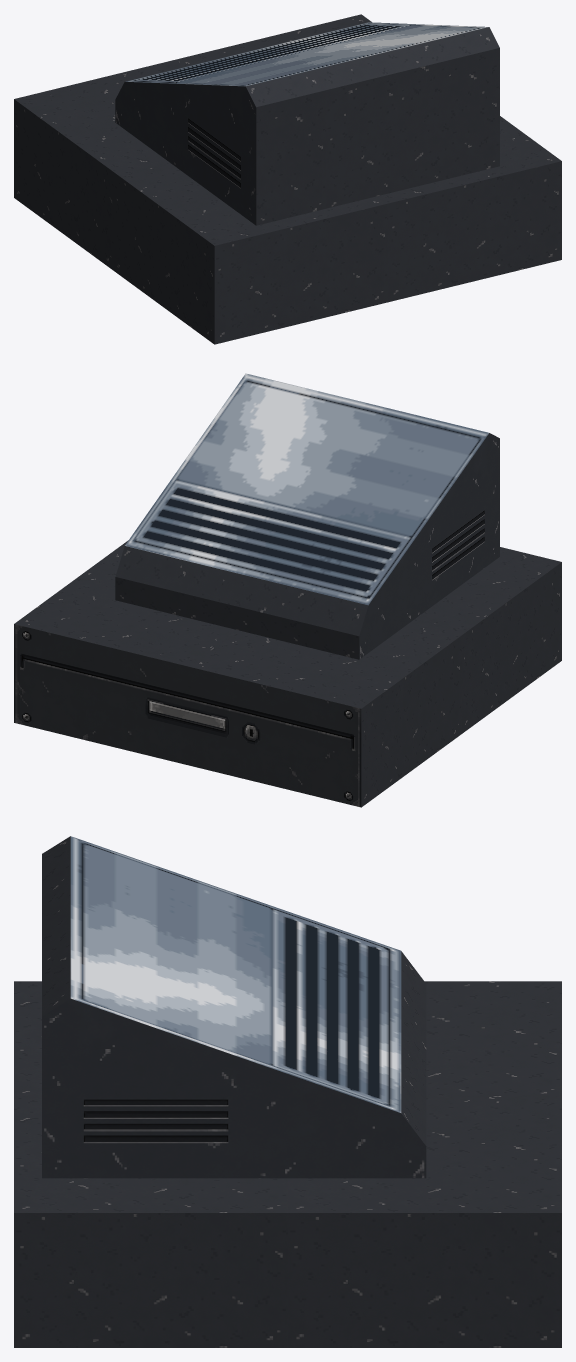
File: register.fbx
The picture shows the model from 3 angles, top to bottom: view 1: azimuth 30°, elevation 25°; view 2: azimuth 150°, elevation 25°; view 3: azimuth 270°, elevation 25°; orthographic projection. The views are drawn at different scales.
Parts seen in each view (by area): view 1: Cube.005, Cube.006; view 2: Cube.005, Cube.006; view 3: Cube.005, Cube.006.
Part boxes in pixels (box(x1,y1,x2,y2)): Cube.005: box(14, 14, 561, 344); Cube.006: box(115, 22, 499, 225); Cube.005: box(14, 540, 561, 807); Cube.006: box(115, 373, 499, 659); Cube.005: box(14, 981, 561, 1347); Cube.006: box(42, 836, 426, 1178).
Size of the model in its own units: 200 by 127 by 200.
